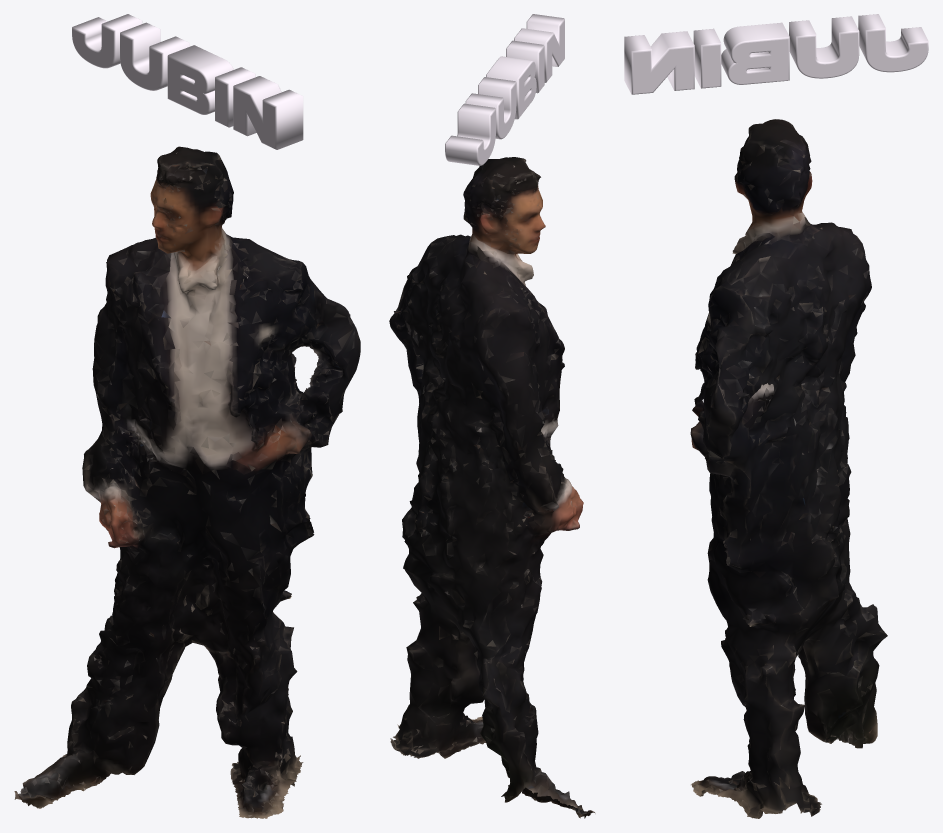
The model's file is jubin_neu.glb.
The picture shows the model from 3 angles, left to right: view 1: azimuth 30°, elevation 25°; view 2: azimuth 150°, elevation 25°; view 3: azimuth 270°, elevation 25°; orthographic projection. The views are drawn at different scales.
Visible parts, largest first — view 1: juubin, Text.007; view 2: juubin, Text.007; view 3: juubin, Text.007.
Boxes of the visible parts, <box> form: juubin: <box>14,146,360,818</box>; Text.007: <box>72,14,303,149</box>; juubin: <box>389,157,595,818</box>; Text.007: <box>445,14,564,165</box>; juubin: <box>690,119,887,818</box>; Text.007: <box>624,14,928,94</box>.
Bounding box in the file's own units: 2.11 × 5.41 × 2.
2 materials, 1 textured.
